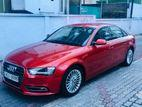car: (3, 19, 136, 102)
